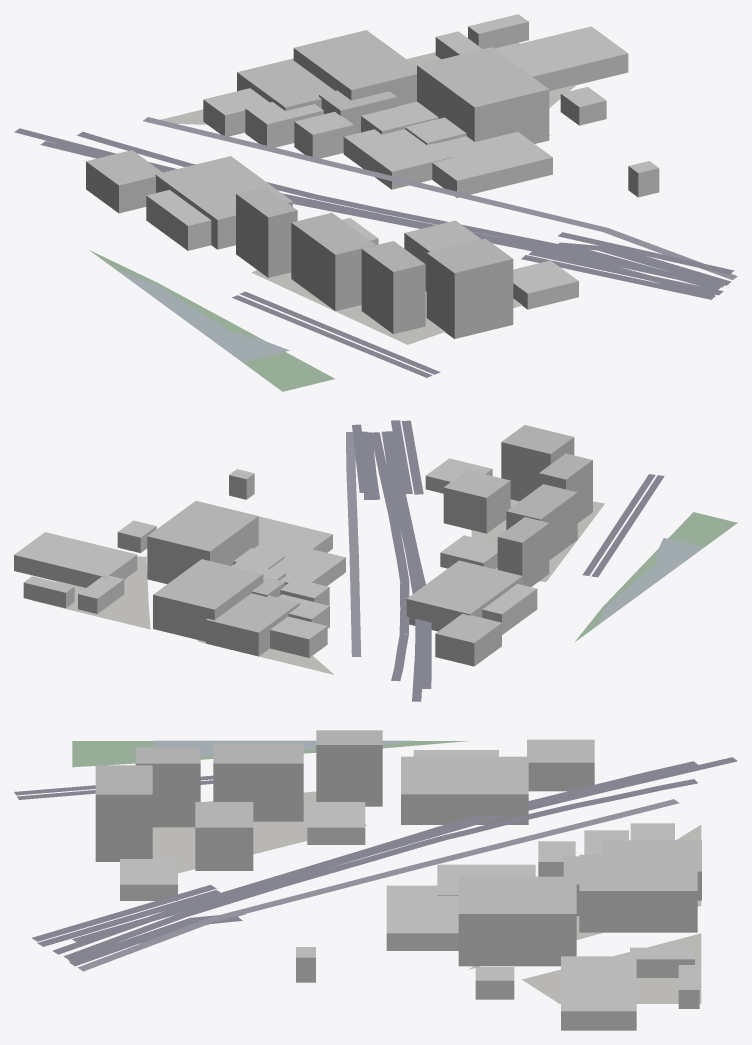
File: 132_91_mid.glb
3 views of the same model, one above another, from view 1: azimuth 30°, elevation 25°; view 2: azimuth 150°, elevation 25°; view 3: azimuth 270°, elevation 25° (orthographic). The views are drawn at different scales.
Size of the model in its own units: 549 by 59.51 by 576.
